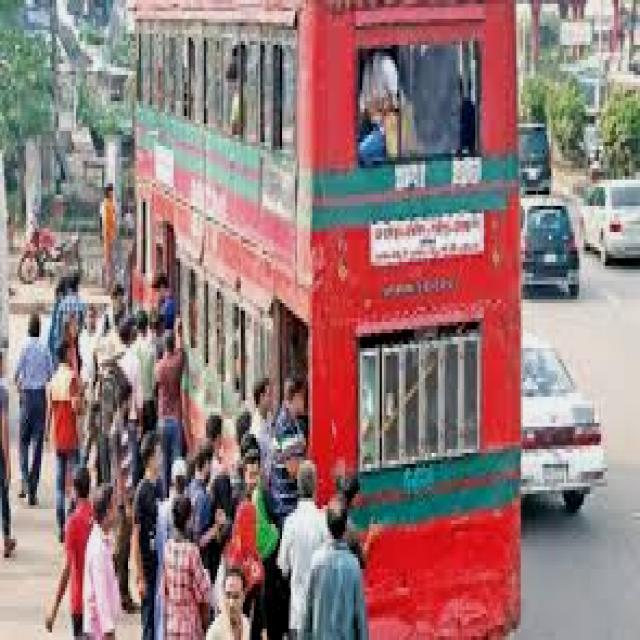bus: (125, 1, 523, 637)
